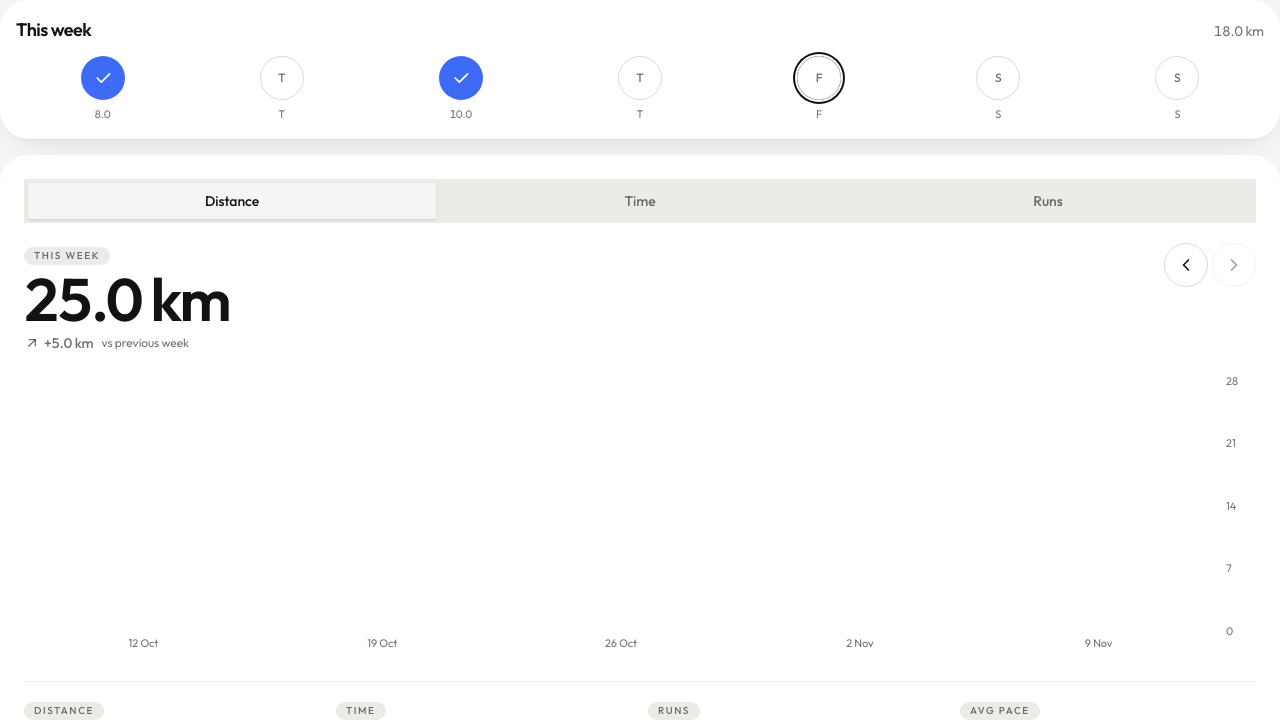
Scenario: ProgressHero › steps back to an earlier week and forward again
Click the button with test id "hero-previous": (1186, 264) [1164, 242, 1208, 286]
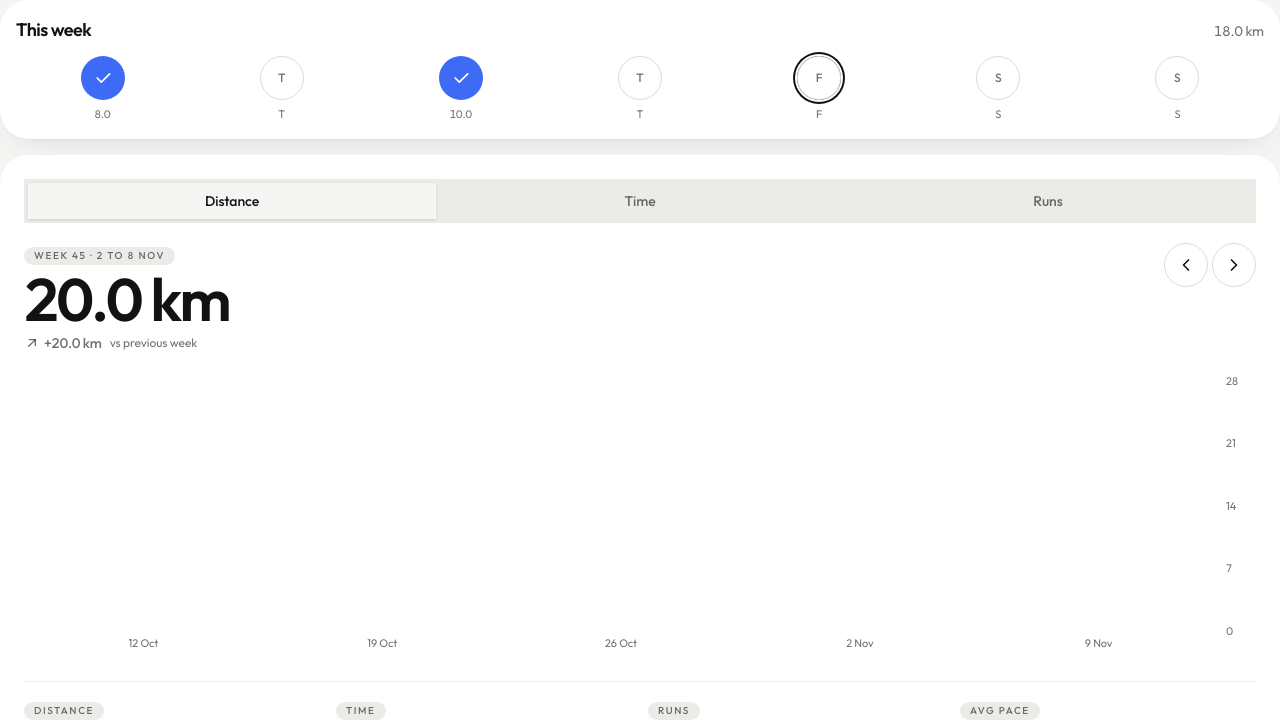
Expected: the text with test id "hero-eyebrow" reads "Week 45 · 2 to 8 Nov", [34, 248, 165, 262]
Expected: the text with test id "hero-value" reads "20.0 km", [24, 260, 230, 336]
Click the button with test id "hero-next": (1234, 264) [1212, 242, 1256, 286]
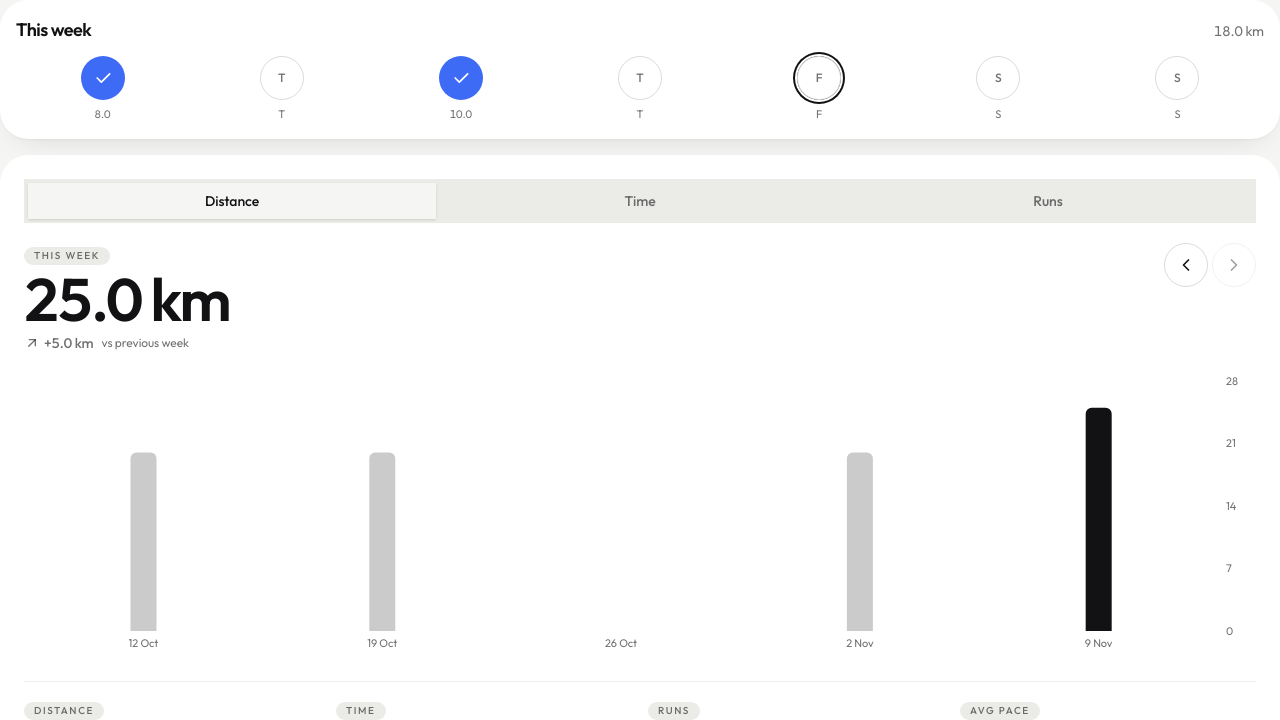
Expected: the text with test id "hero-eyebrow" reads "This week", [34, 248, 100, 262]
